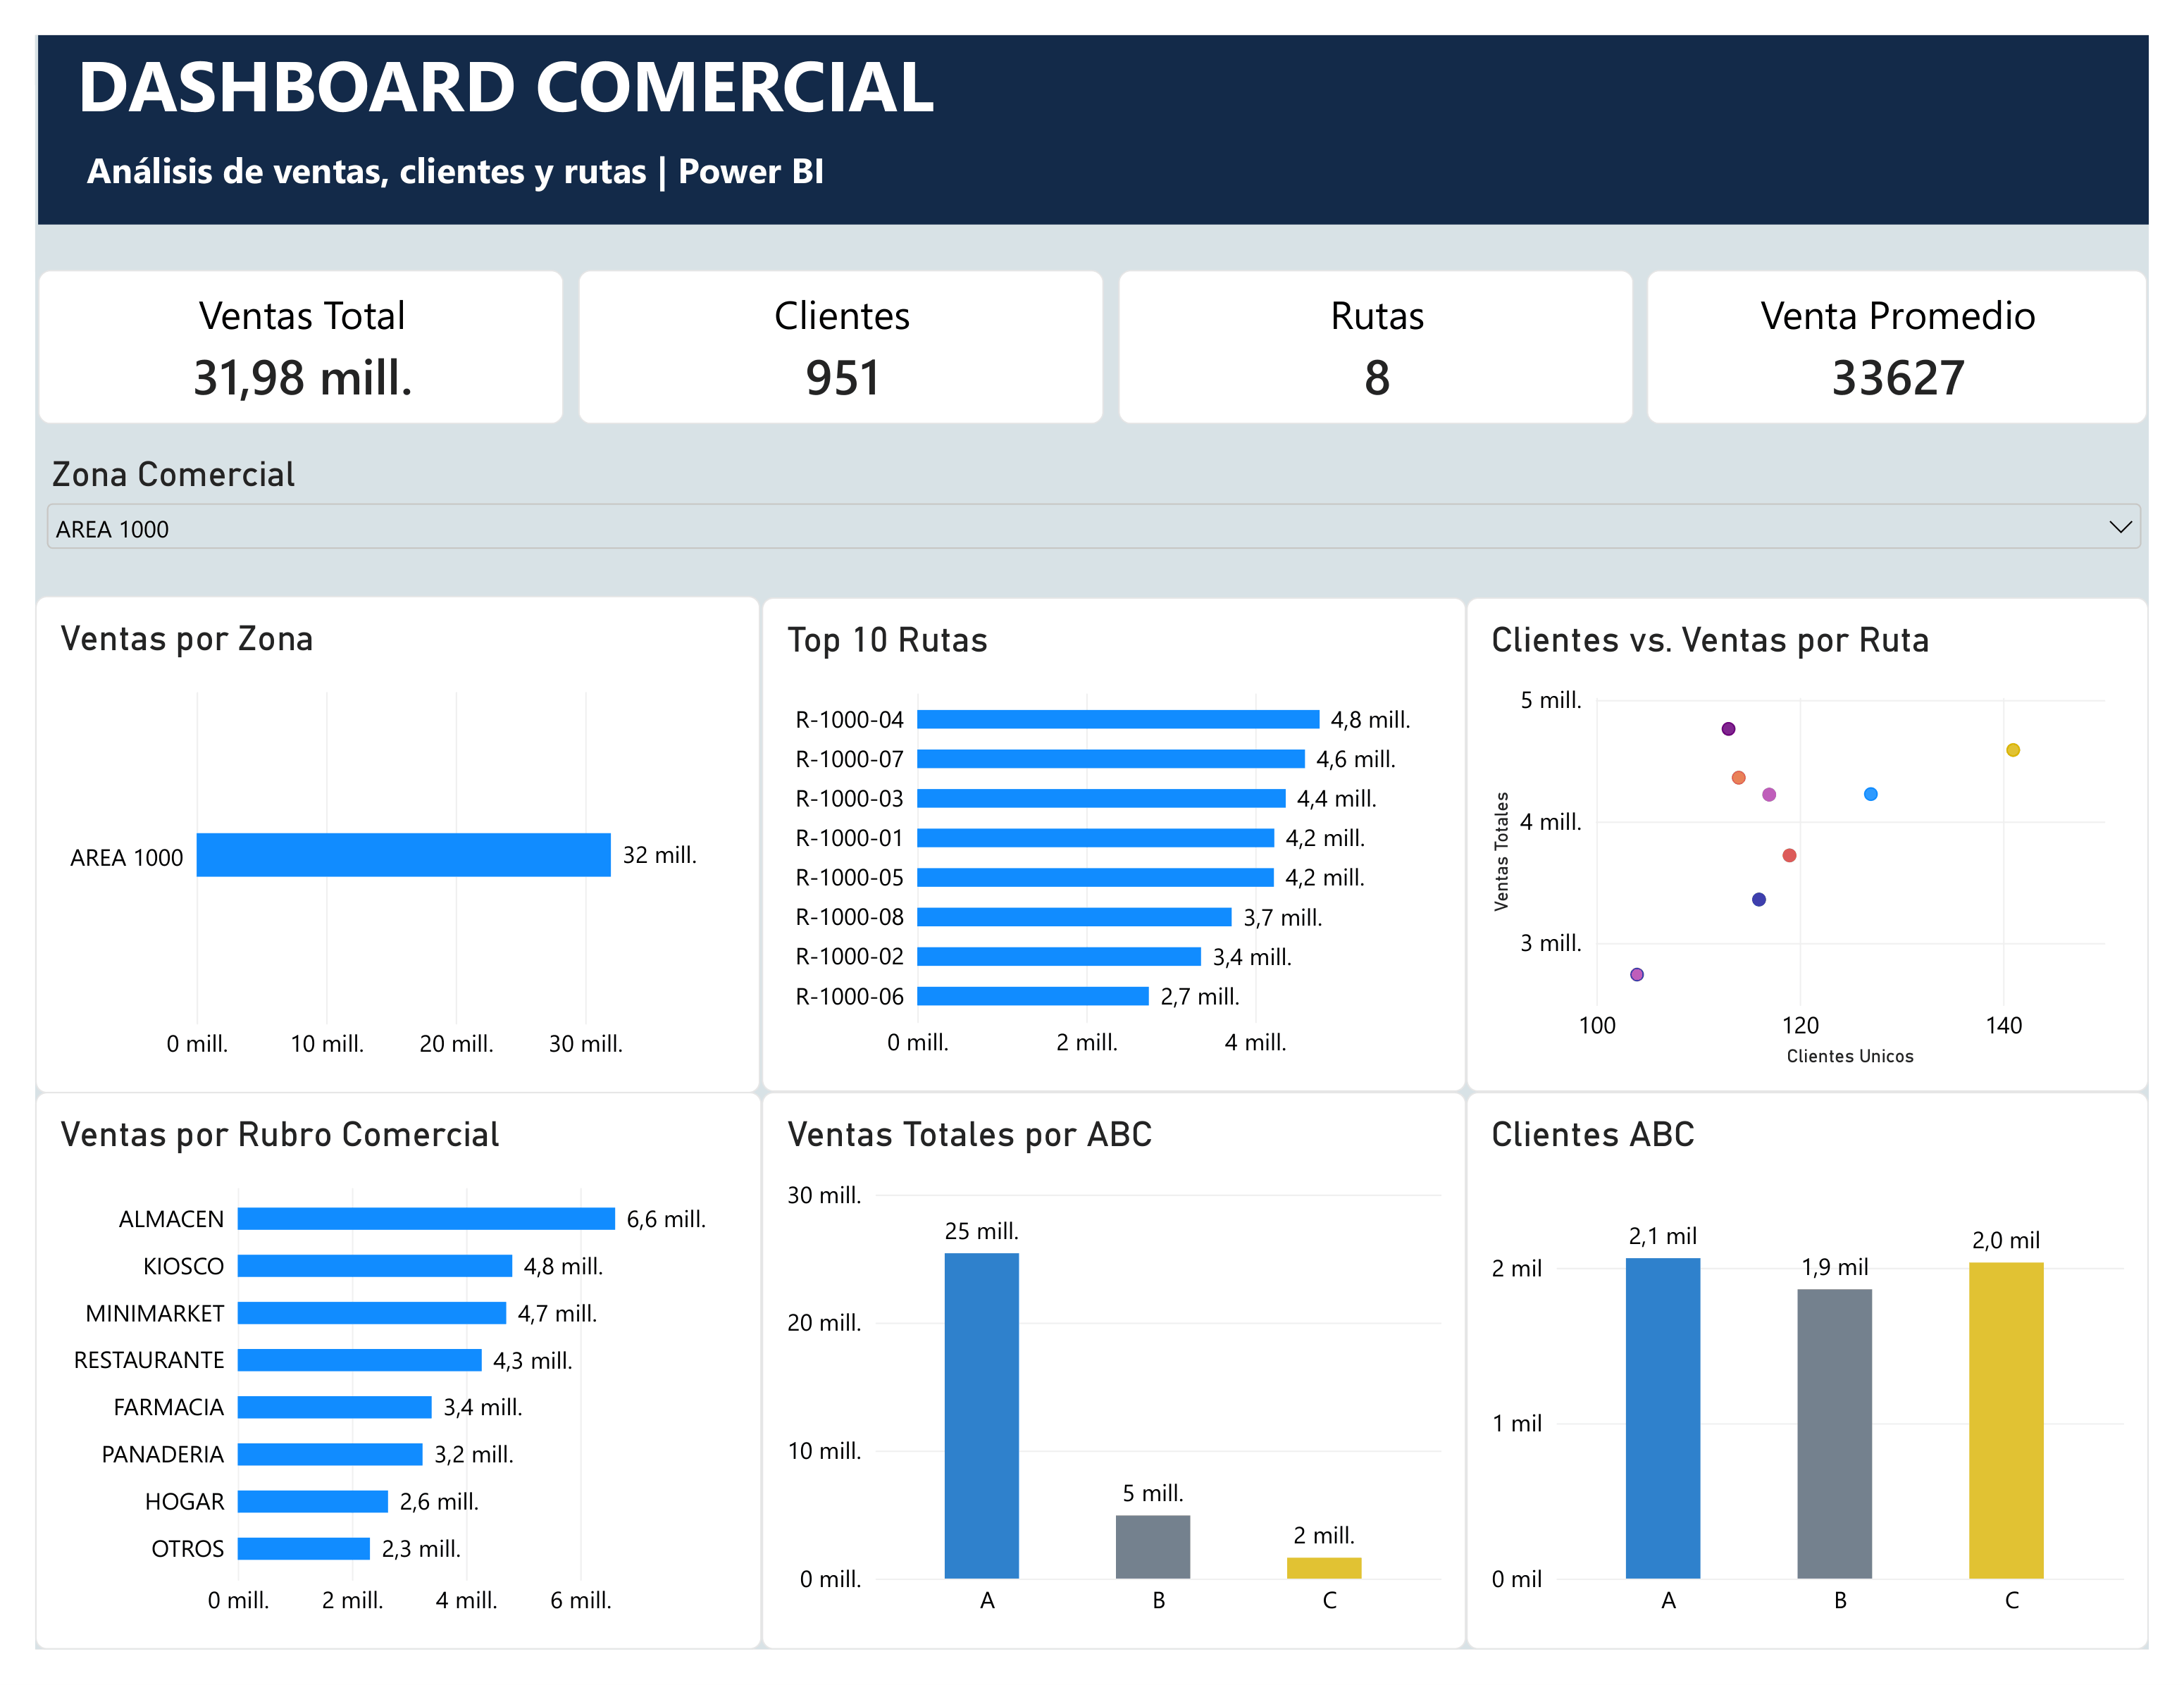

The dashboard page shown, as its layout file describes it:
{"tool":"powerbi","page":{"name":"Comercial","canvas":[1440,1100],"ordinal":0},"visuals":[{"type":"cardVisual","fields":{"Data":["Sum(Ventas.Ventas.Total)"]},"box":[2.4,160,358.2,105.1],"z":0},{"type":"cardVisual","fields":{"Data":["Ventas.Venta Promedio Cliente"]},"box":[1098.4,160,341.5,105.1],"z":1000},{"type":"cardVisual","fields":{"Data":["Ventas.Clientes Unicos"]},"box":[370.1,160,358.2,105.1],"z":2000},{"type":"cardVisual","fields":{"Data":["Ventas.Rutas Unicas"]},"box":[737.9,160,351,105.1],"z":3000},{"type":"clusteredBarChart","title":"Ventas por Zona","fields":{"Category":["Ventas.Zona"],"Y":["Sum(Ventas.Ventas.Total)"]},"box":[0,382.1,494.3,339.1],"z":4000},{"type":"slicer","fields":{"Values":["Ventas.Zona"]},"box":[2.5,265,1437.5,117.5],"z":5000},{"type":"clusteredBarChart","title":"Top 10 Rutas","fields":{"Category":["Ventas.Ruta asignada"],"Y":["Ventas.Ventas Totales"]},"box":[495,382.5,480,337.5],"z":6000},{"type":"clusteredBarChart","title":"Ventas por Rubro Comercial","fields":{"Category":["Ventas.Rubro"],"Y":["Ventas.Ventas Totales"]},"box":[0,720,495,380],"z":7000},{"type":"scatterChart","title":"Clientes vs. Ventas por Ruta","fields":{"Series":["Ventas.Ruta asignada"],"X":["Ventas.Clientes Unicos"],"Y":["Ventas.Ventas Totales"]},"box":[975,382.5,465,337.5],"z":8000},{"type":"clusteredColumnChart","title":"Clientes ABC","fields":{"Category":["ABC.ABC"],"Y":["ABC.Clientes ABC"]},"box":[975,720,465,380],"z":9000},{"type":"clusteredColumnChart","fields":{"Category":["ABC.ABC"],"Y":["Ventas.Ventas Totales"]},"box":[495,720,480,380],"z":10000},{"type":"textbox","box":[2.4,0,1437.5,128.9],"z":11000}]}

Visuals, with their boxes on the page's 1440x1100 design canvas (x1, y1, x2, y2). These are canvas units, not pixel positions in the 2184x1685 screenshot, which may show the page scaled, cropped or inside an application window:
cardVisual - Sum(Ventas.Ventas.Total): x1=2 y1=160 x2=361 y2=265
cardVisual - Ventas.Venta Promedio Cliente: x1=1098 y1=160 x2=1440 y2=265
cardVisual - Ventas.Clientes Unicos: x1=370 y1=160 x2=728 y2=265
cardVisual - Ventas.Rutas Unicas: x1=738 y1=160 x2=1089 y2=265
"Ventas por Zona" clusteredBarChart: x1=0 y1=382 x2=494 y2=721
slicer - Ventas.Zona: x1=2 y1=265 x2=1440 y2=382
"Top 10 Rutas" clusteredBarChart: x1=495 y1=382 x2=975 y2=720
"Ventas por Rubro Comercial" clusteredBarChart: x1=0 y1=720 x2=495 y2=1100
"Clientes vs. Ventas por Ruta" scatterChart: x1=975 y1=382 x2=1440 y2=720
"Clientes ABC" clusteredColumnChart: x1=975 y1=720 x2=1440 y2=1100
clusteredColumnChart - ABC.ABC x Ventas.Ventas Totales: x1=495 y1=720 x2=975 y2=1100
textbox: x1=2 y1=0 x2=1440 y2=129
